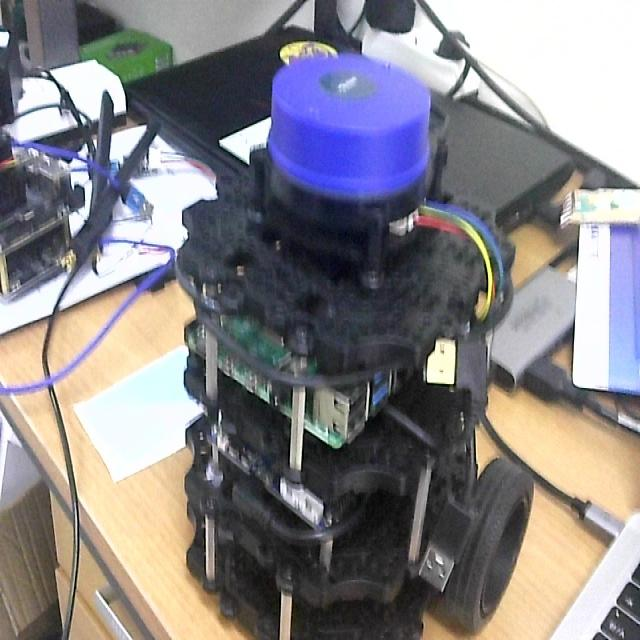turtle: (174, 56, 538, 640)
